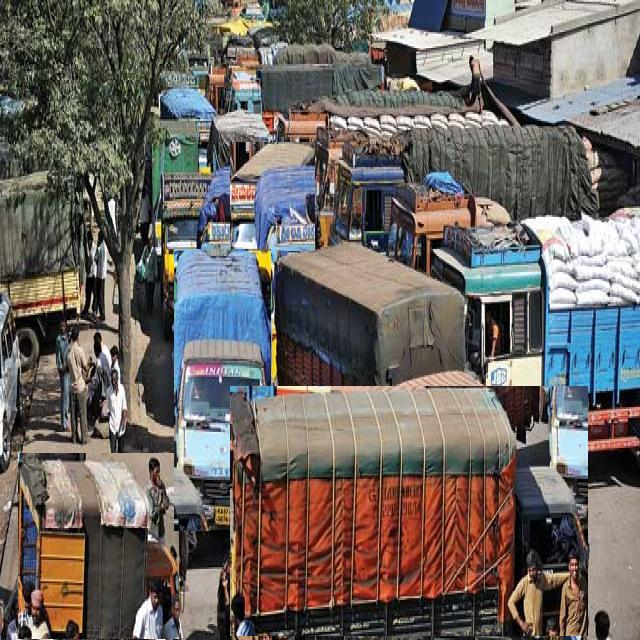car: (484, 502, 486, 516)
truck: (230, 386, 588, 636), (326, 118, 599, 252), (276, 244, 465, 436), (18, 454, 179, 640), (174, 249, 271, 531), (224, 60, 381, 127), (230, 142, 315, 251), (161, 173, 211, 336)
